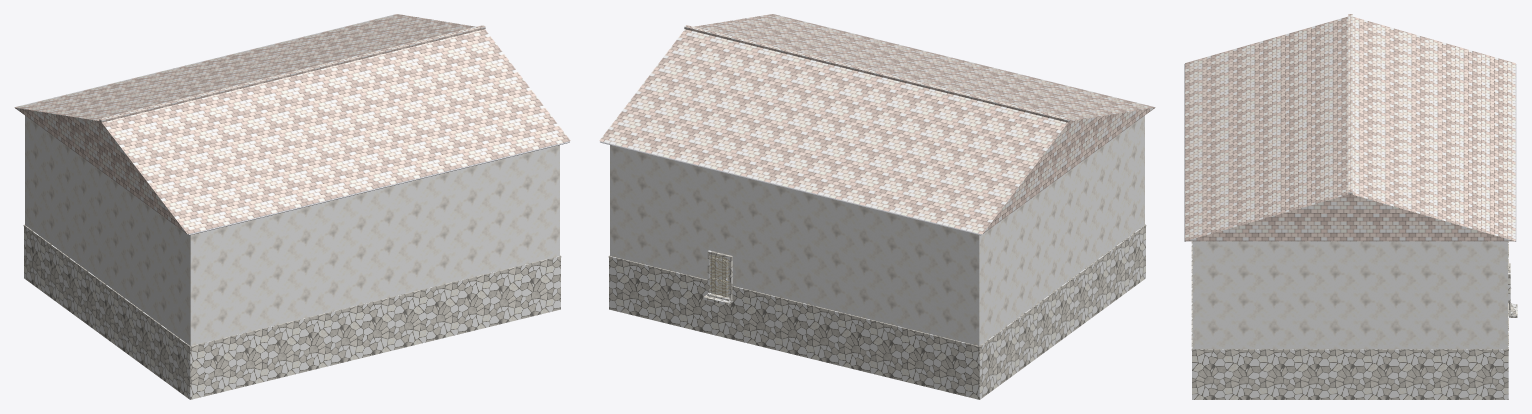
The picture shows the model from 3 angles, left to right: view 1: azimuth 30°, elevation 25°; view 2: azimuth 150°, elevation 25°; view 3: azimuth 270°, elevation 25°; orthographic projection. The views are drawn at different scales.
Parts seen in each view (by area): view 1: b1085400566; view 2: b1085400566; view 3: b1085400566.
Boxes of the visible parts, bbox=[...] form: b1085400566: bbox=[14, 14, 570, 399]; b1085400566: bbox=[599, 14, 1155, 399]; b1085400566: bbox=[1184, 14, 1517, 399].
Size of the model in its own units: 19.38 by 10.66 by 15.3.
Materials: 11 (11 with a texture image).
